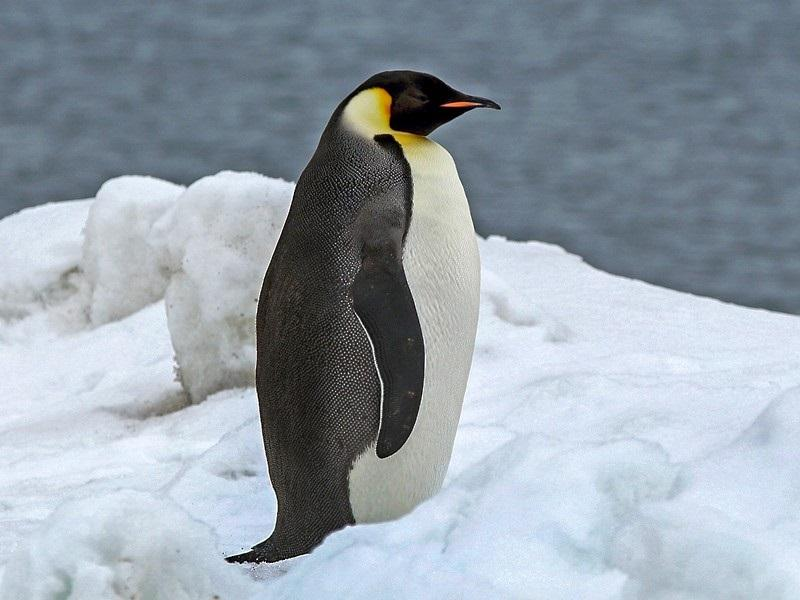emporer: (205, 49, 560, 566)
